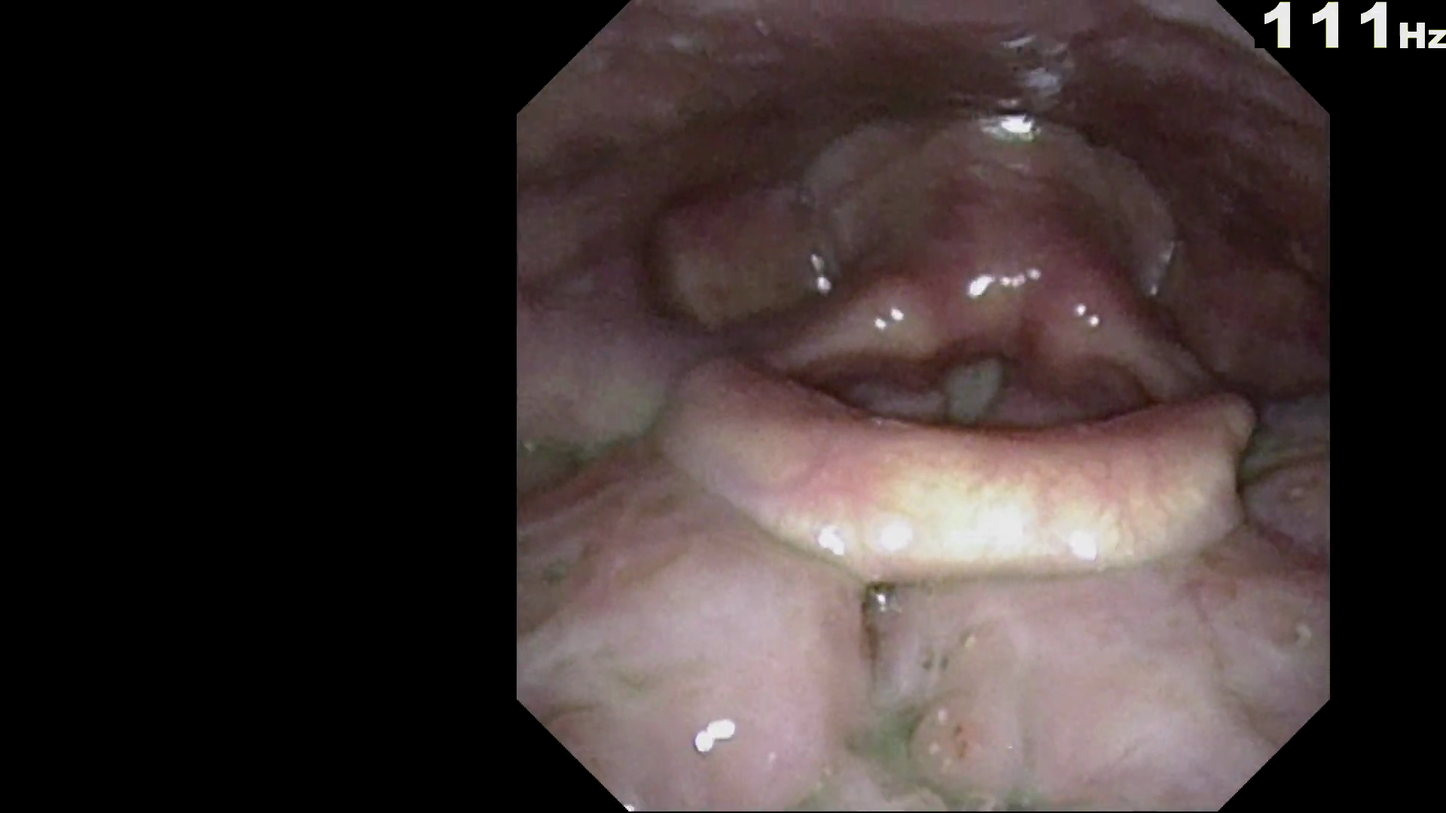epiglottis: (653, 359, 1240, 562)
trachea: (934, 332, 1016, 436)
